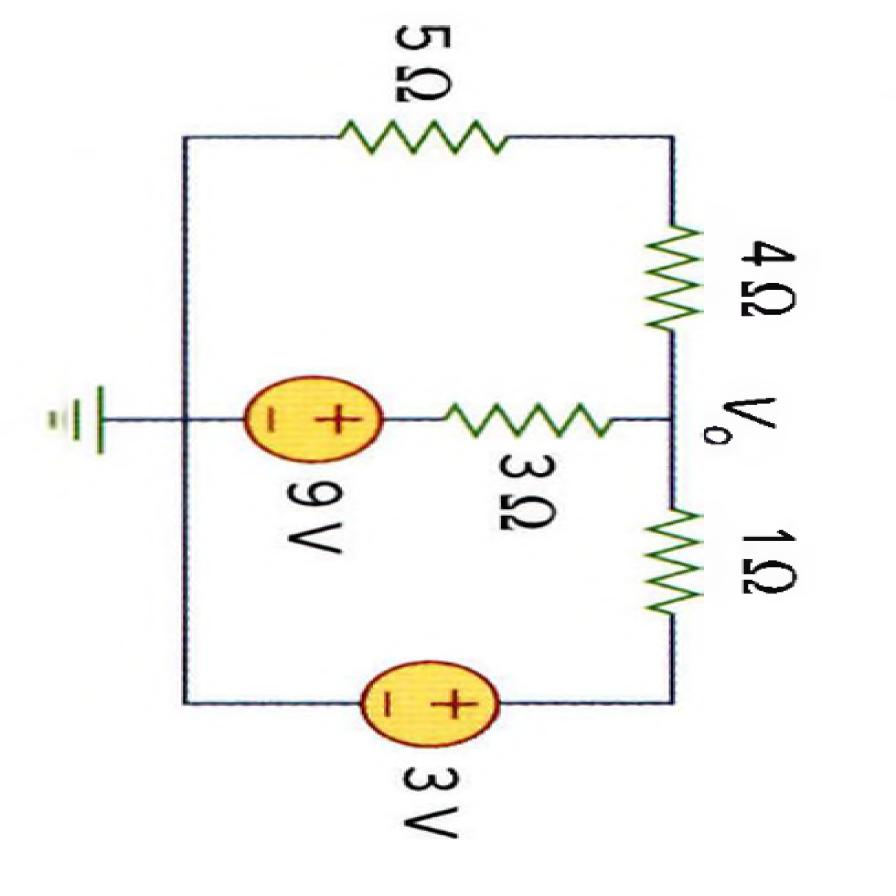V2: (227, 360, 401, 471), (347, 651, 515, 755)
